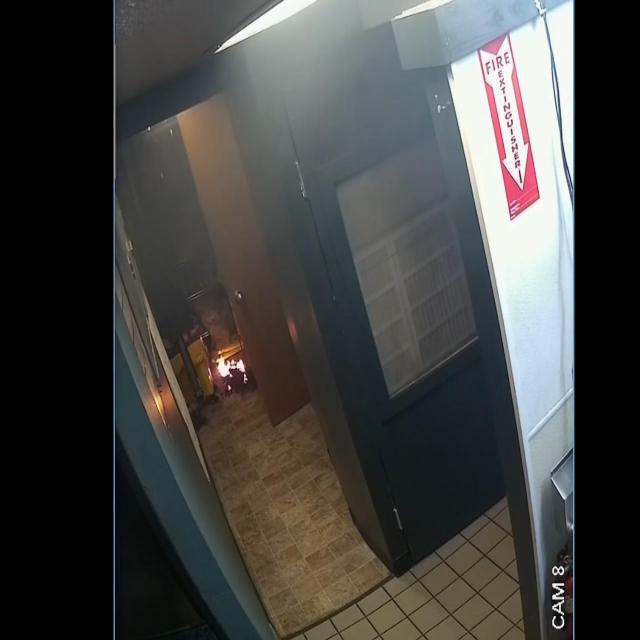fire: (218, 353, 245, 376)
